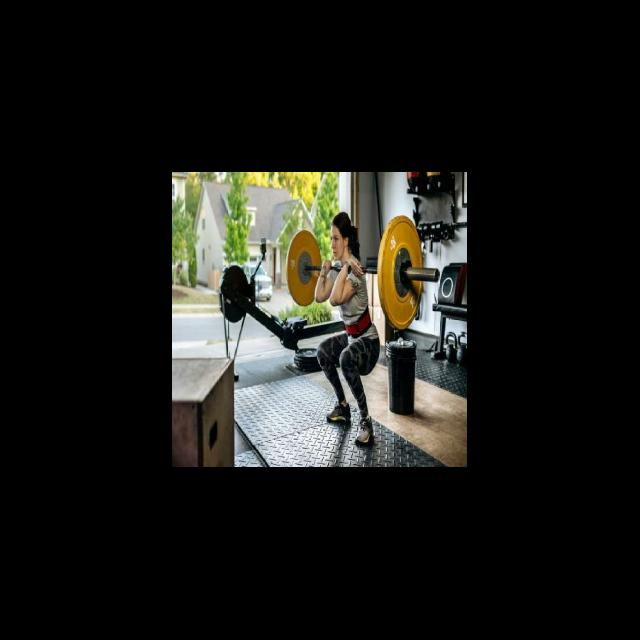barbell: (376, 210, 432, 332)
